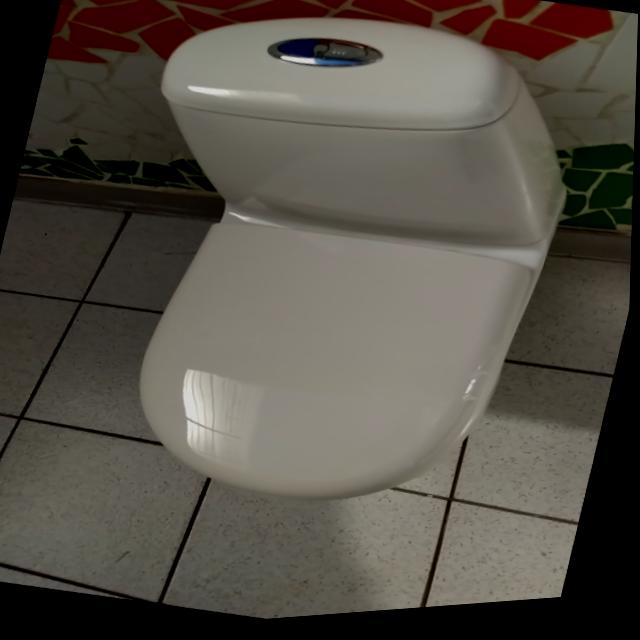toilet: (69, 0, 605, 558)
